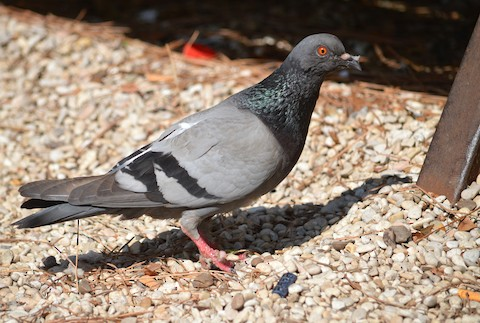pigeon: (12, 33, 366, 277)
